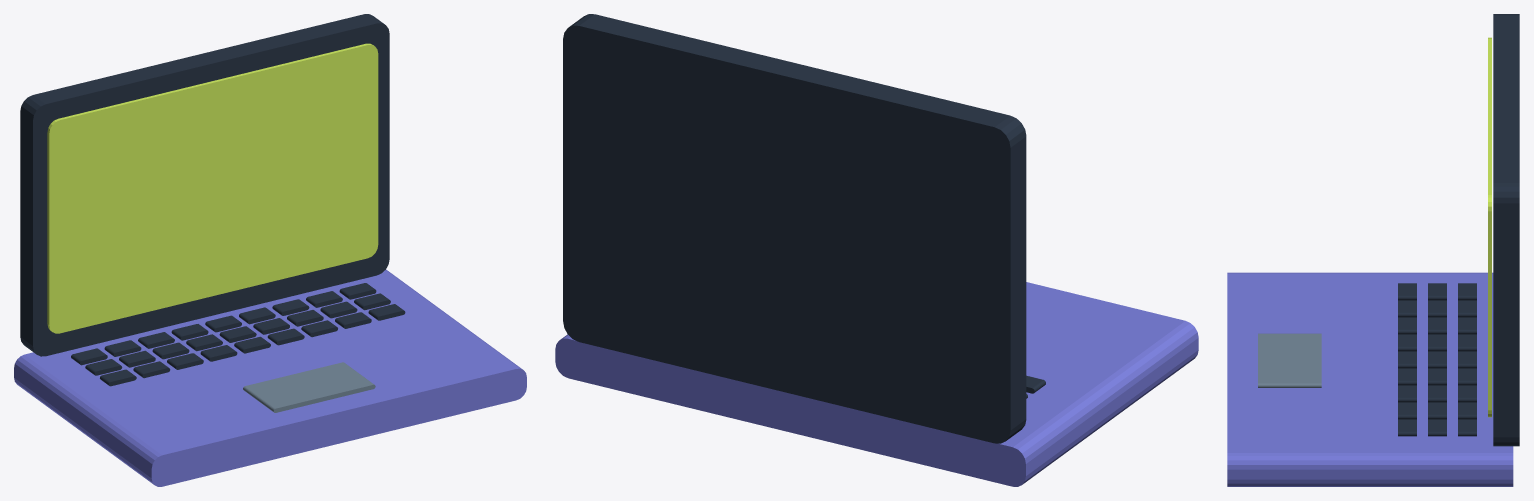
The model's file is laptop.glb.
3 views of the same model, side by side, from view 1: azimuth 30°, elevation 25°; view 2: azimuth 150°, elevation 25°; view 3: azimuth 270°, elevation 25° (orthographic). The views are drawn at different scales.
Visible parts, largest first — view 1: display glass, base, display bezel, trackpad; view 2: display bezel, base; view 3: base, display bezel, trackpad, display glass, key 0-0, key 0-1, key 0-2, key 0-3, key 0-4, key 0-5, key 0-6, key 0-7 (+19 smaller).
Part boxes in pixels (x1,y1,x2,y2): display glass: (47, 43, 378, 333); base: (14, 269, 526, 486); display bezel: (20, 14, 389, 356); trackpad: (243, 362, 375, 412); display bezel: (563, 14, 1026, 443); base: (555, 282, 1198, 486); base: (1227, 272, 1513, 486); display bezel: (1493, 14, 1519, 446); trackpad: (1258, 333, 1321, 387); display glass: (1488, 37, 1491, 417); key 0-0: (1458, 283, 1476, 300); key 0-1: (1458, 300, 1476, 317); key 0-2: (1458, 317, 1476, 334); key 0-3: (1458, 334, 1476, 351); key 0-4: (1458, 351, 1476, 368); key 0-5: (1458, 368, 1476, 385); key 0-6: (1458, 385, 1476, 402); key 0-7: (1458, 402, 1476, 419).
Bounding box in the file's own units: 1.62 × 1.18 × 1.05.
